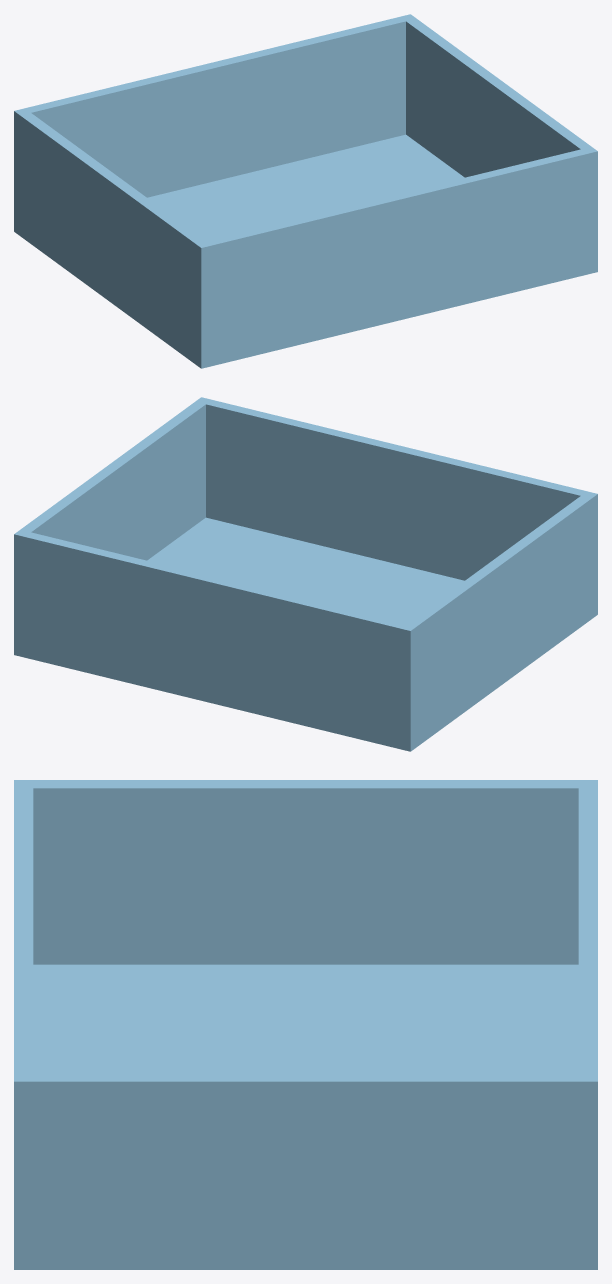
The model's file is basket.dae.
3 views of the same model, one above another, from view 1: azimuth 30°, elevation 25°; view 2: azimuth 150°, elevation 25°; view 3: azimuth 270°, elevation 25° (orthographic). The views are drawn at different scales.
Visible parts, largest first — view 1: ID2; view 2: ID2; view 3: ID2.
Part boxes in pixels (x1,y1,x2,y2): ID2: (14,14,597,368); ID2: (14,397,597,751); ID2: (14,780,597,1269).
Size of the model in its own units: 0.55 by 0.45 by 0.16.
